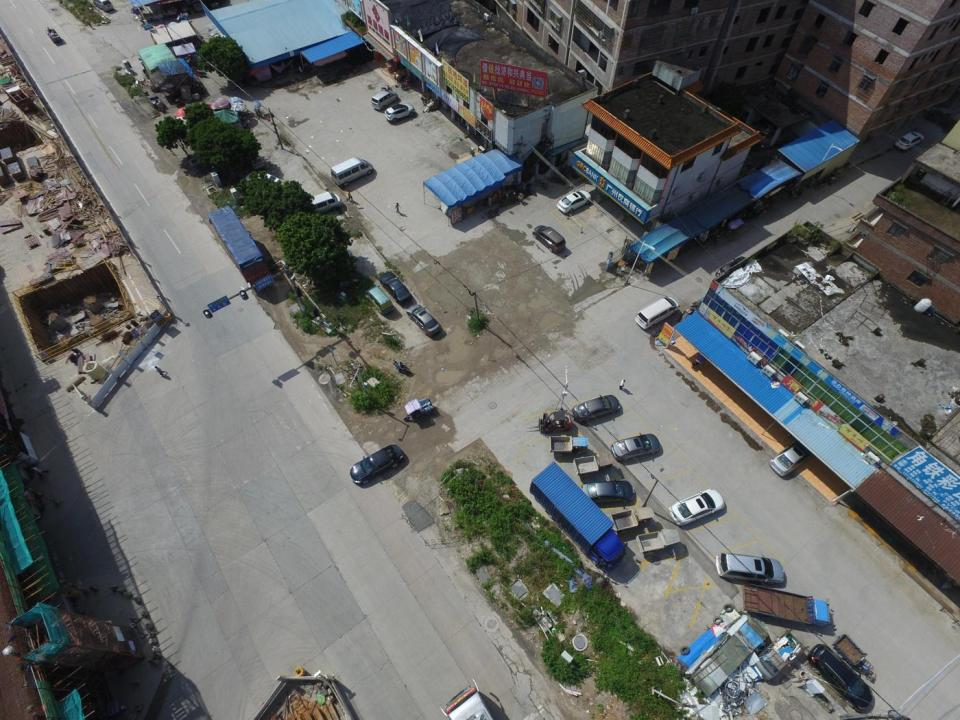car: (349, 444, 403, 488), (670, 490, 724, 526), (769, 437, 817, 477), (571, 394, 620, 422), (612, 433, 660, 461), (582, 482, 634, 504), (407, 304, 441, 336), (380, 271, 412, 304), (557, 190, 590, 213), (245, 171, 280, 190), (388, 103, 416, 124), (895, 132, 923, 152), (761, 117, 786, 137)
truck: (529, 462, 631, 575), (209, 205, 272, 291), (744, 584, 832, 630), (756, 626, 802, 682), (832, 634, 873, 682), (637, 529, 680, 555), (610, 507, 652, 532), (549, 433, 588, 456), (575, 455, 612, 474)
van: (810, 643, 874, 710), (717, 552, 785, 584), (331, 156, 378, 188), (634, 297, 679, 330), (532, 225, 566, 254), (304, 191, 343, 216), (364, 286, 393, 315), (372, 89, 398, 110), (244, 150, 265, 171), (92, 0, 114, 12)
